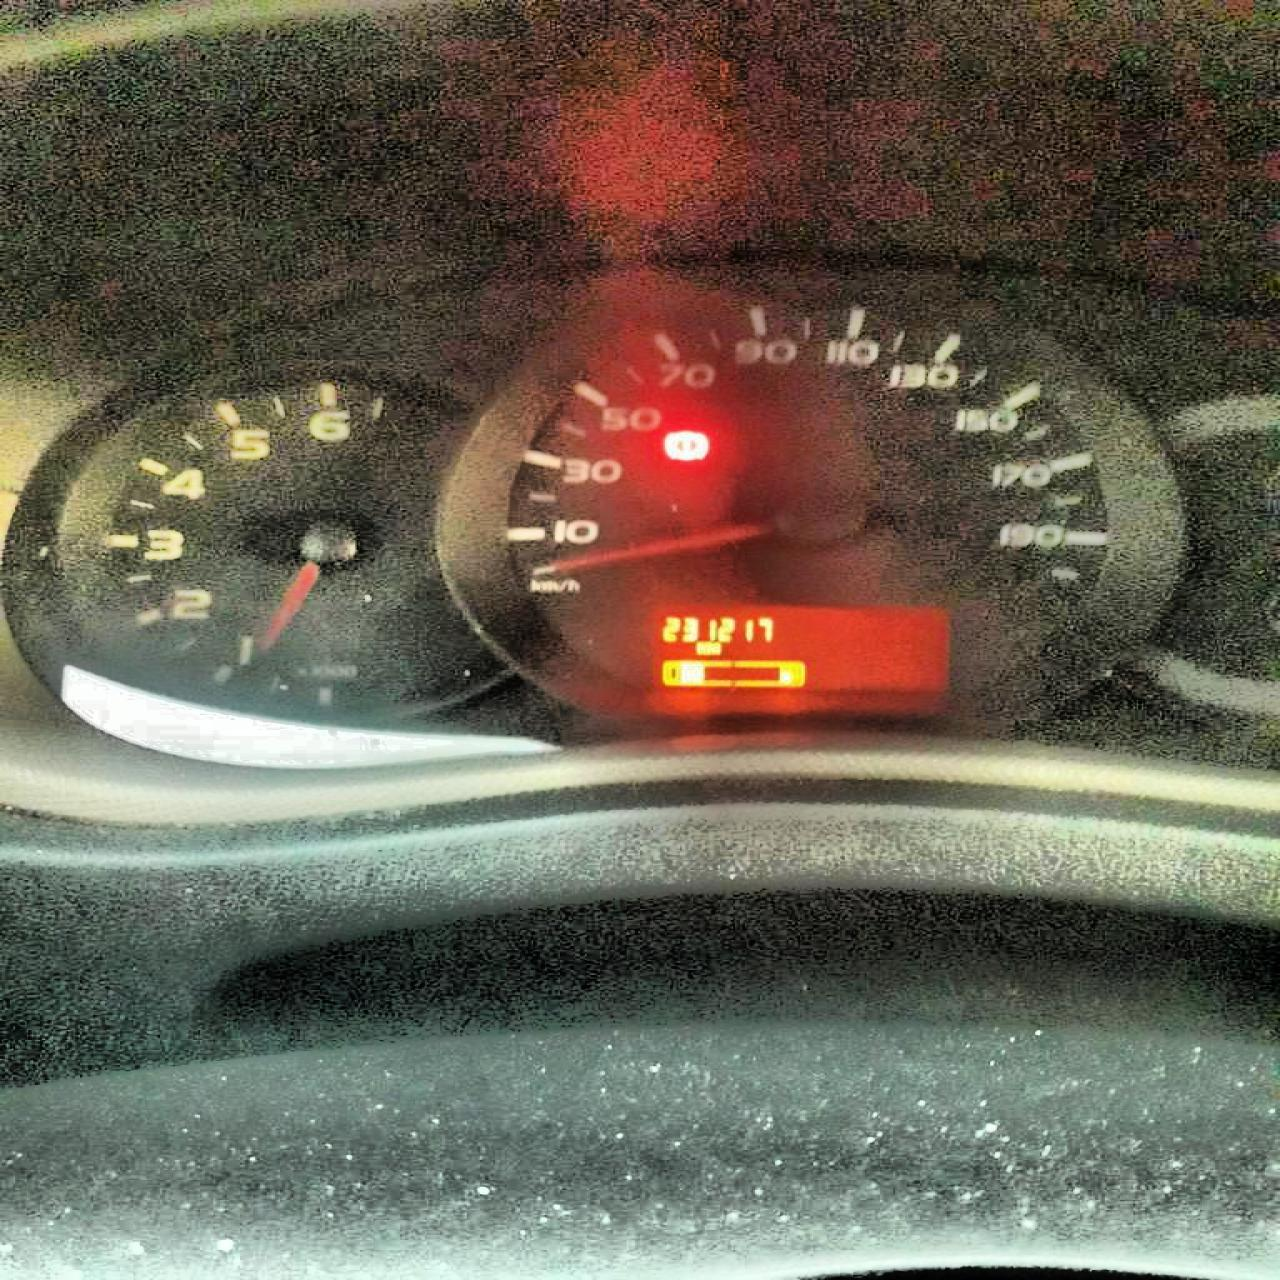1: (742, 617, 754, 641), (704, 617, 715, 640)
2: (715, 615, 735, 641), (659, 615, 679, 641)
3: (680, 615, 699, 641)
7: (754, 615, 771, 641)
X: (704, 641, 720, 655), (693, 640, 704, 654)
odometer: (640, 598, 956, 701)
